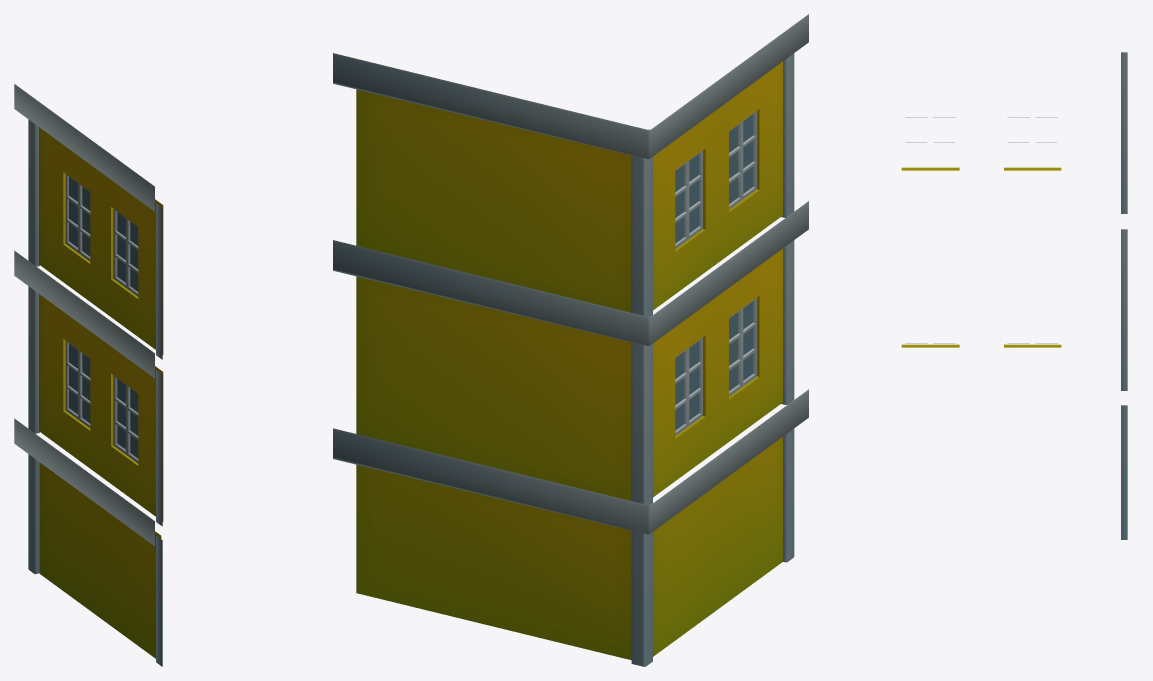
File: BackgroundBuilding02.glb
3 views of the same model, side by side, from view 1: azimuth 30°, elevation 25°; view 2: azimuth 150°, elevation 25°; view 3: azimuth 270°, elevation 25° (orthographic). The views are drawn at different scales.
Visible parts, largest first — view 1: BackgroundBuilding02; view 2: BackgroundBuilding02; view 3: BackgroundBuilding02.
Boxes of the visible parts, bbox=[...] form: BackgroundBuilding02: bbox=[14, 84, 163, 666]; BackgroundBuilding02: bbox=[333, 14, 808, 666]; BackgroundBuilding02: bbox=[901, 52, 1127, 539].
Bounding box in the file's own units: 10.6 × 17.38 × 9.21.
2 materials, 1 textured.
